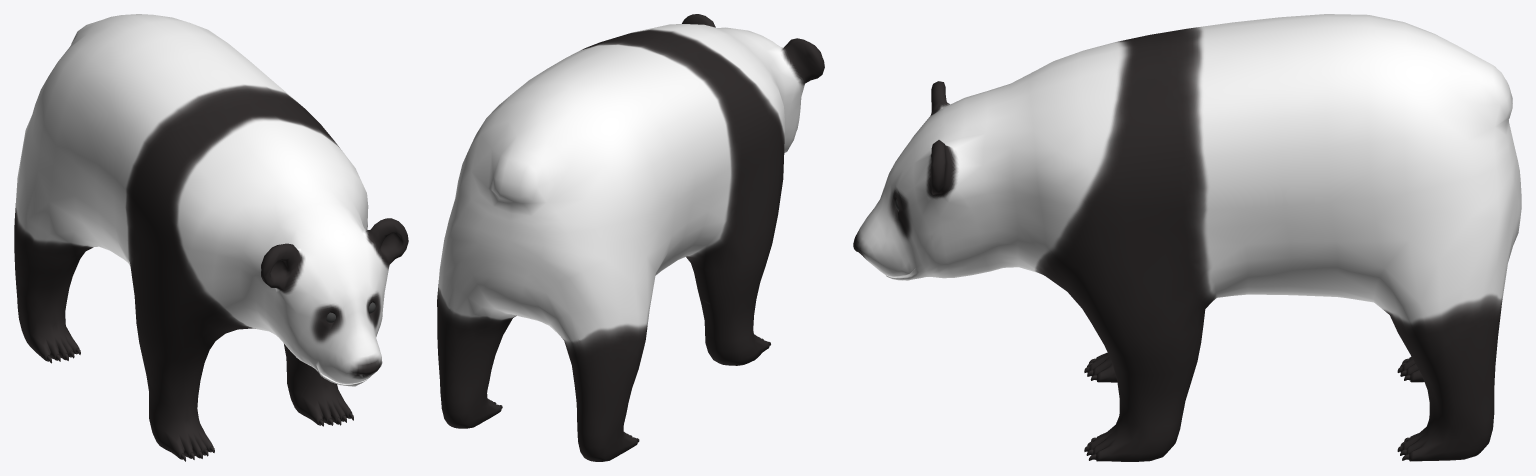
File: giant_panda.glb
3 renders of one model, left to right at view 1: azimuth 30°, elevation 25°; view 2: azimuth 150°, elevation 25°; view 3: azimuth 270°, elevation 25°, orthographic. The views are drawn at different scales.
Parts seen in each view (by area): view 1: Object_2; view 2: Object_2; view 3: Object_2.
Boxes of the visible parts, x1=… form: Object_2: x1=14, y1=14, x2=408, y2=461; Object_2: x1=437, y1=14, x2=824, y2=461; Object_2: x1=853, y1=14, x2=1521, y2=461.
Size of the model in its own units: 3.12 by 4.85 by 7.59.
2 materials, 1 textured.
